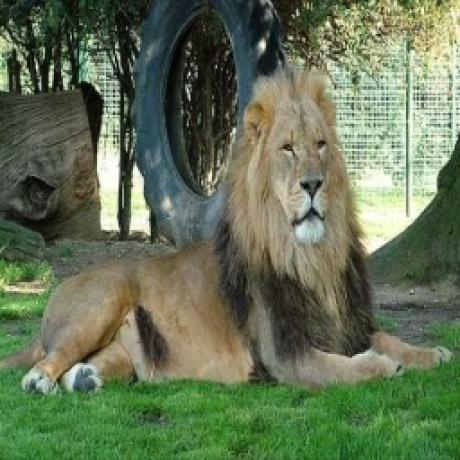Lion: (20, 57, 454, 393)
